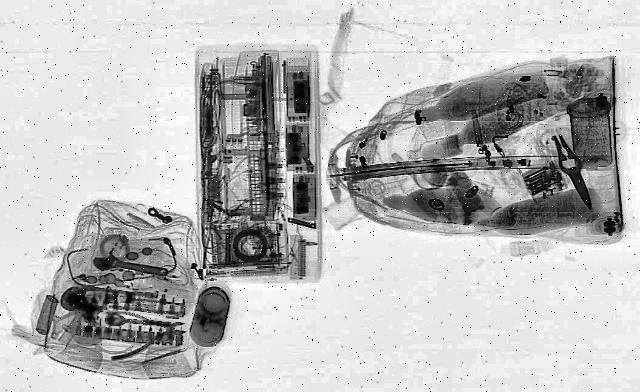Pliers: (104, 307, 190, 359), (546, 134, 602, 212)
Wrench: (87, 250, 173, 284)
